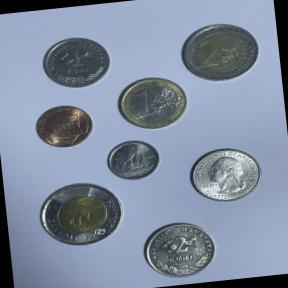coin: (33, 179, 128, 252), (177, 17, 266, 86), (138, 216, 223, 284), (184, 142, 266, 208), (114, 73, 194, 134), (30, 100, 100, 152), (102, 136, 166, 184)
